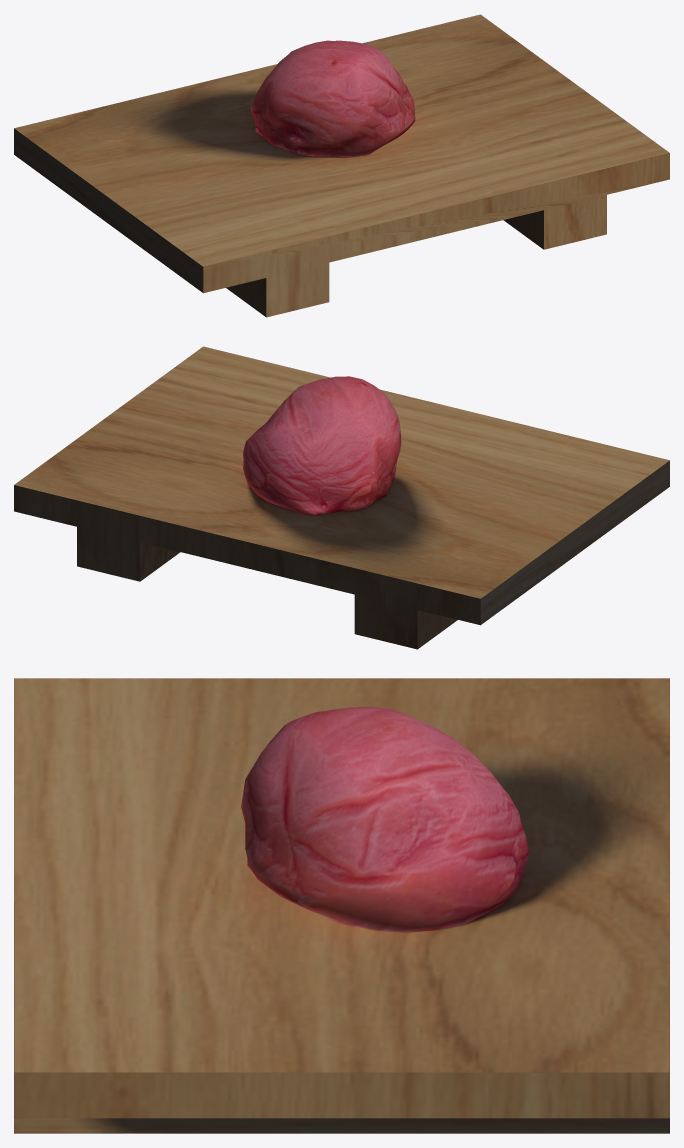
The model's file is sushi_umeboshi.glb.
3 views of the same model, one above another, from view 1: azimuth 30°, elevation 25°; view 2: azimuth 150°, elevation 25°; view 3: azimuth 270°, elevation 25° (orthographic). The views are drawn at different scales.
Visible parts, largest first — view 1: geta.vox, 02ume; view 2: geta.vox, 02ume; view 3: geta.vox, 02ume.
Part boxes in pixels (x1,y1,x2,y2): geta.vox: (14,14,669,317); 02ume: (250,40,415,156); geta.vox: (14,346,669,649); 02ume: (243,376,401,515); geta.vox: (14,678,669,1133); 02ume: (241,707,529,932).
Bounding box in the file's own units: 0.807 × 0.2583 × 0.5671.
2 materials, 2 textured.
